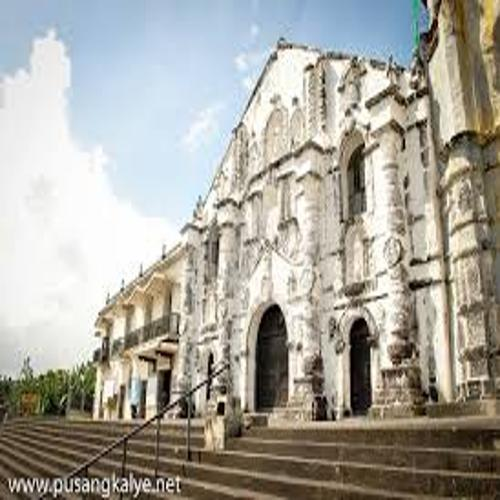Daraga Church: (187, 2, 500, 421)
